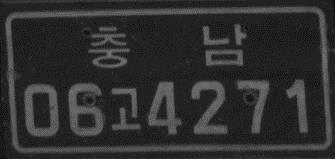0: (21, 81, 63, 139)
1: (286, 75, 310, 136)
2: (188, 79, 230, 138)
4: (143, 79, 182, 138)
6: (65, 79, 106, 140)
7: (233, 77, 271, 137)
고: (107, 84, 142, 134)
충남_D: (87, 20, 248, 71)
